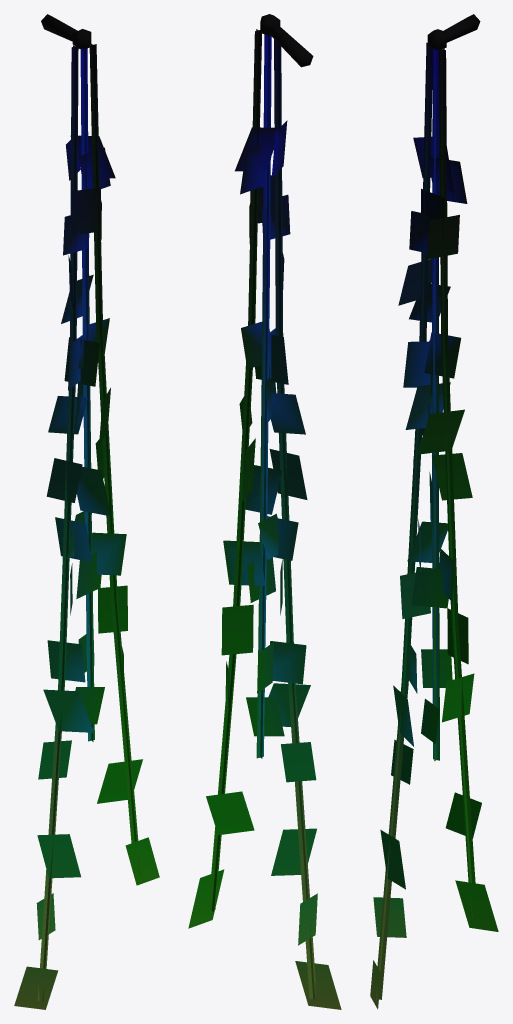
File: SM_Pit_TagStrand_C.fbx
The picture shows the model from 3 angles, left to right: view 1: azimuth 30°, elevation 25°; view 2: azimuth 210°, elevation 25°; view 3: azimuth 330°, elevation 25°; orthographic projection. The views are drawn at different scales.
Visible parts, largest first — view 1: SM_Pit_TagStrand_C; view 2: SM_Pit_TagStrand_C; view 3: SM_Pit_TagStrand_C.
Part boxes in pixels (box(x1,y1,x2,y2)): SM_Pit_TagStrand_C: box(14, 14, 159, 1009); SM_Pit_TagStrand_C: box(188, 14, 341, 1009); SM_Pit_TagStrand_C: box(370, 14, 498, 1009).
Size of the model in its own units: 0.215 by 1.46 by 0.154.
